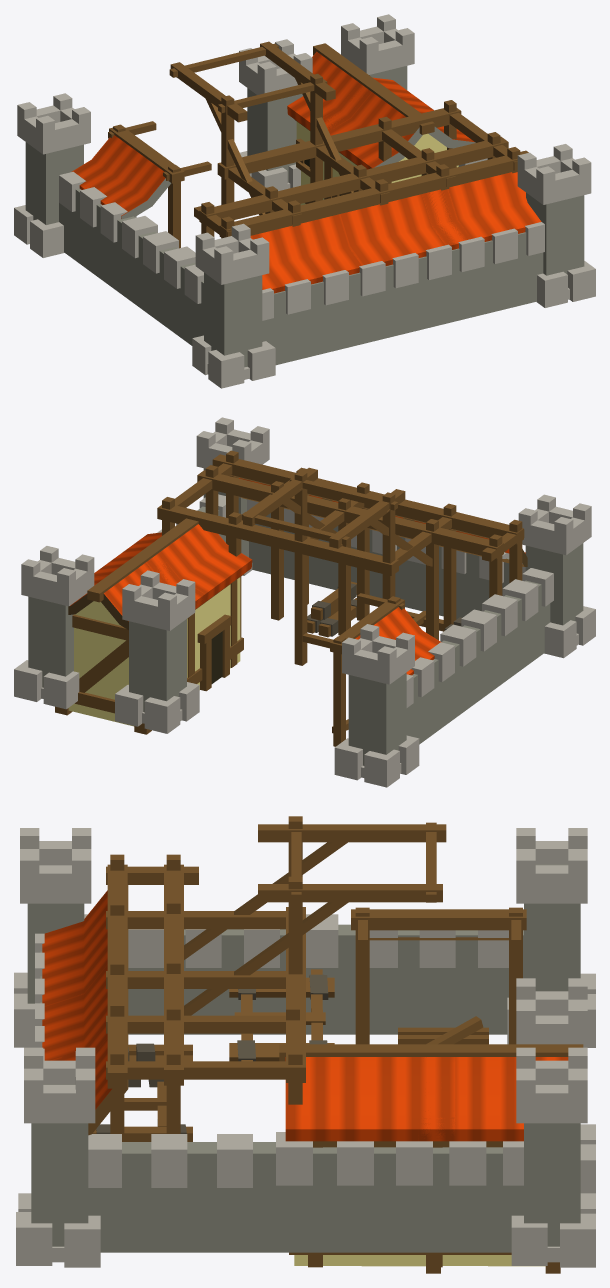
Rendered from siegeworkshop.fbx.
3 views of the same model, one above another, from view 1: azimuth 30°, elevation 25°; view 2: azimuth 150°, elevation 25°; view 3: azimuth 270°, elevation 25° (orthographic). The views are drawn at different scales.
Visible parts, largest first — view 1: polySurface812; view 2: polySurface812; view 3: polySurface812.
Boxes of the visible parts, x1,y1,x2,y2 form: polySurface812: [14, 14, 595, 388]; polySurface812: [14, 417, 595, 787]; polySurface812: [14, 816, 595, 1273].
Size of the model in its own units: 347 by 187 by 332.
1 material, 1 textured.
